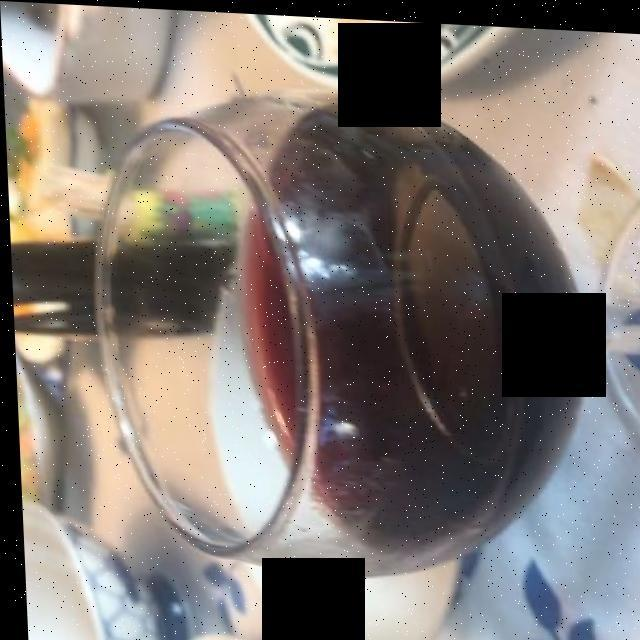wine: (244, 99, 580, 572)
